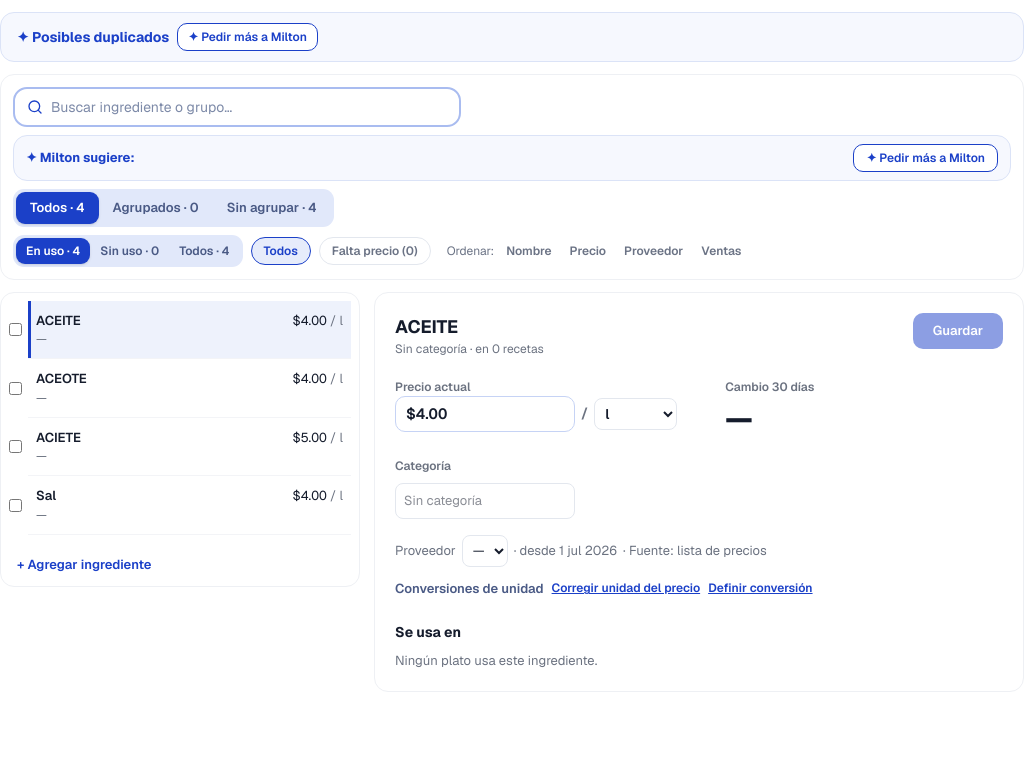
«Unir…» in the selection bar › an error from the database (22023) is shown in the dialog, not swallowed
This screenshot has width=1024, height=768.
Click the checkbox named "Seleccionar ACEITE" at (16, 330), box x1=9 y1=323 x2=22 y2=336
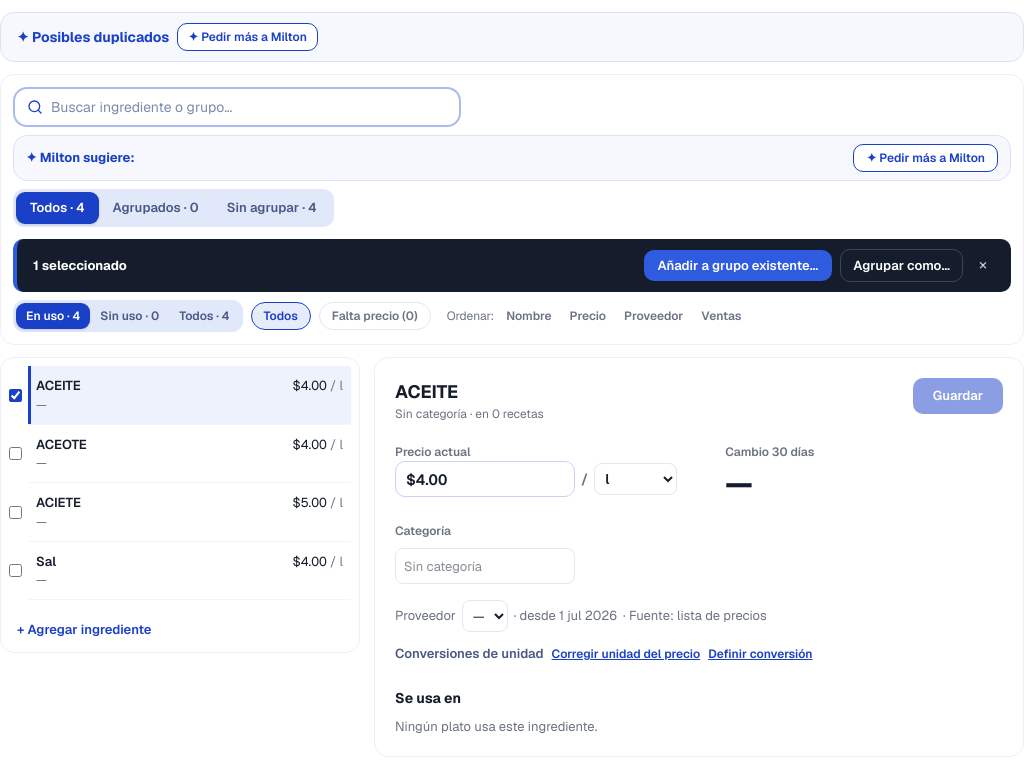
Click the checkbox named "Seleccionar ACEOTE" at (16, 454), box x1=9 y1=447 x2=22 y2=460
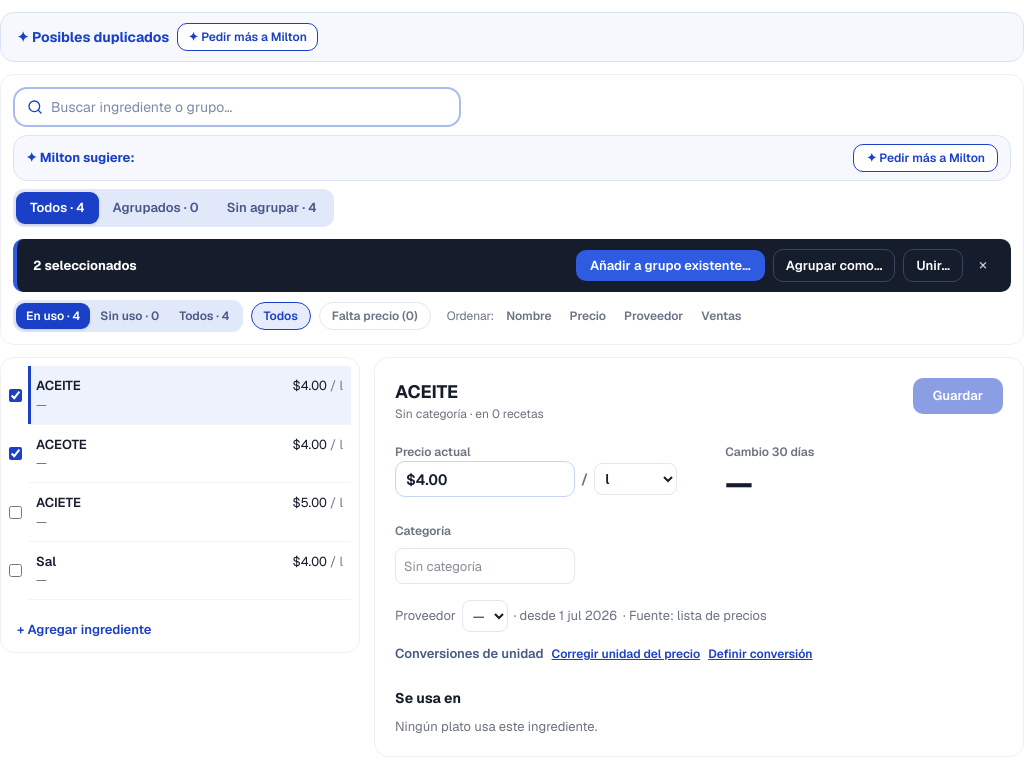
Click the button "Unir…" at (933, 265), box x1=904 y1=248 x2=963 y2=282
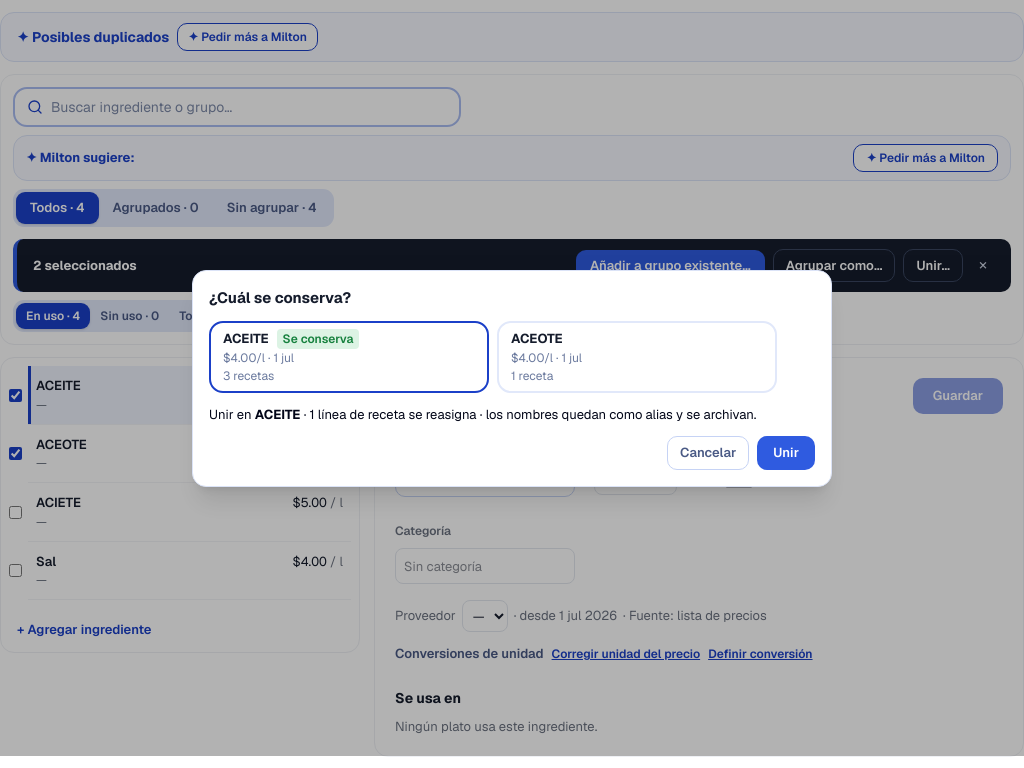
Click the button "Unir" at (786, 453), box x1=757 y1=436 x2=815 y2=470
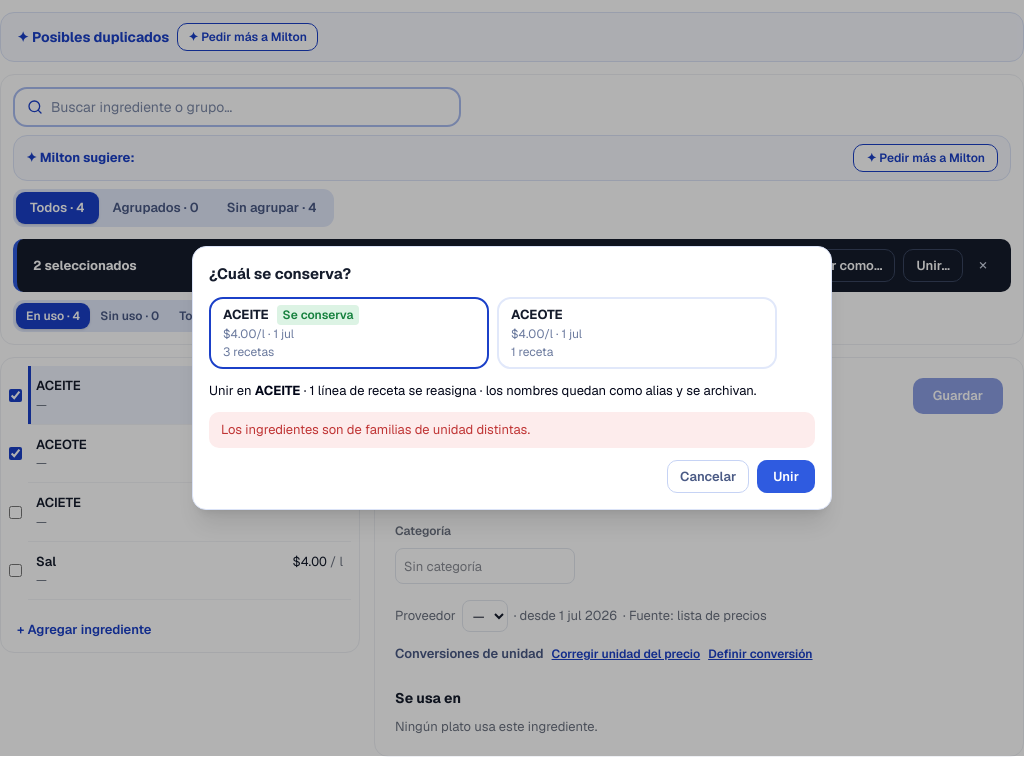
Expected: the checkbox named "Seleccionar ACEITE" is shown, x1=9 y1=389 x2=22 y2=402
Result: the dialog with test id "manual-merge-dialog" is shown
Result: the message shows "familias de unidad distintas" at x1=221 y1=421 x2=530 y2=438
